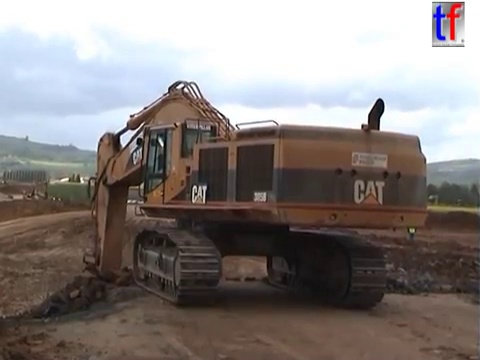excavator: (65, 76, 432, 315), (20, 182, 49, 203)
worker: (404, 214, 420, 243)
